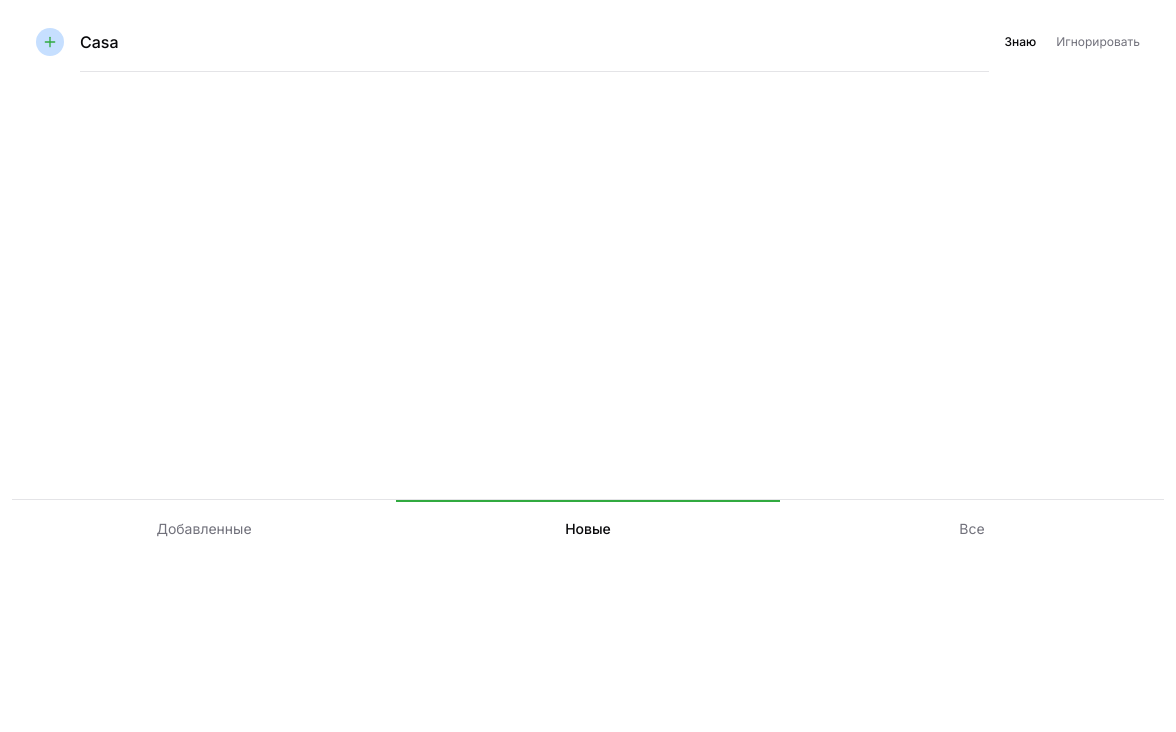
keeps the snapshot and labels a failed refresh separately from a successful write
The image size is (1176, 732).
Click the button named "Добавить Casa в изучение": click(50, 42) [28, 20, 72, 64]
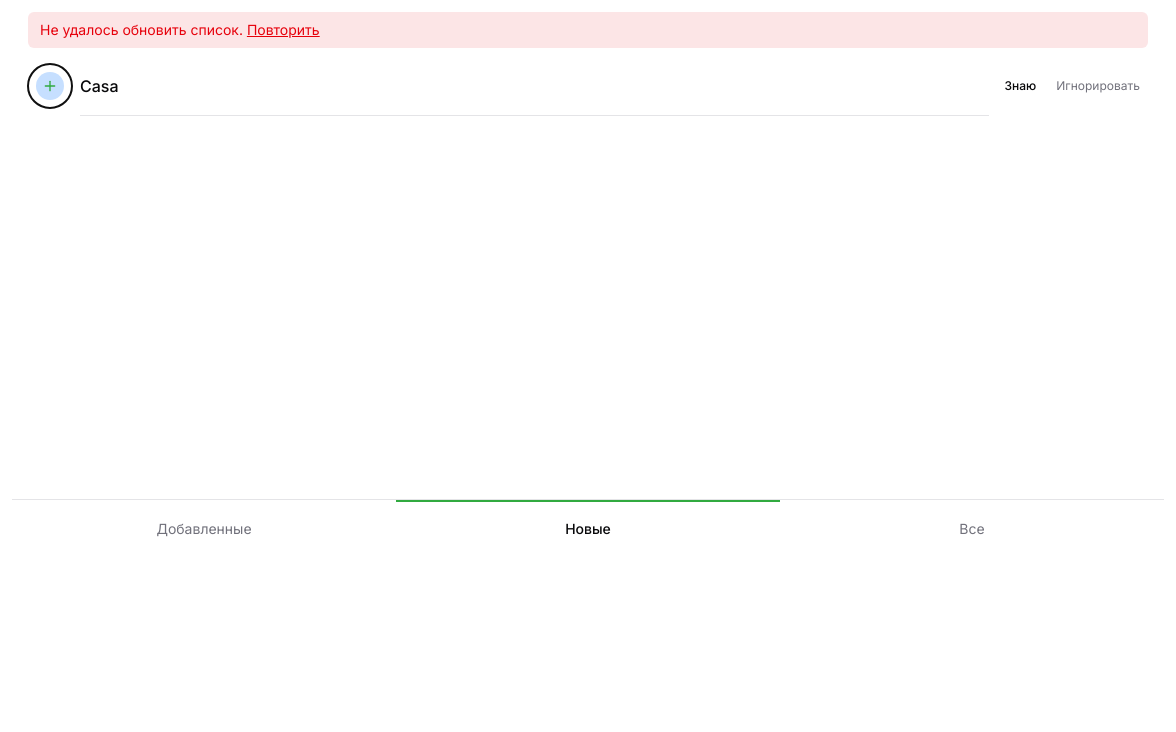
Expected: the button with aria-label "Открыть карточку Casa" is shown, [80, 56, 988, 116]
Now the text "Не удалось обновить список." is shown, box [40, 21, 243, 38]
